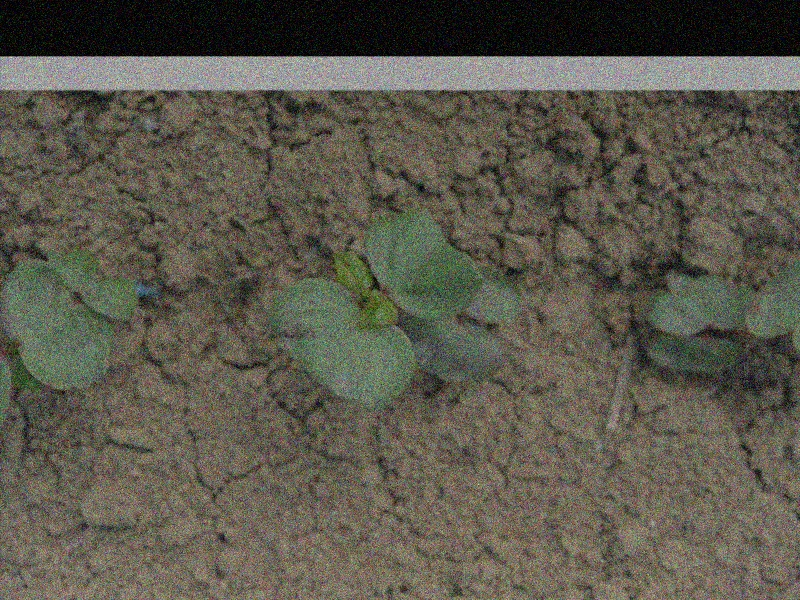cotton: (268, 206, 522, 408), (0, 249, 137, 416), (648, 255, 800, 374)
